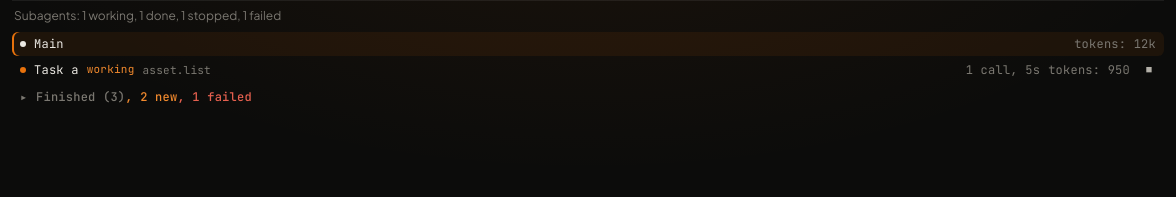
Test: the thread list › shows the tokens each agent spent this session, the main agent's too
This screenshot has width=1176, height=197.
Expected: the text "Main" shows "tokens: 12k", [12,32,1164,56]
Expected: the text "Task a" shows "tokens: 950", [12,58,1164,82]
Click the button "▸ Finished (3), 2 new, 1 failed": x=73, y=97 [12,86,1164,108]
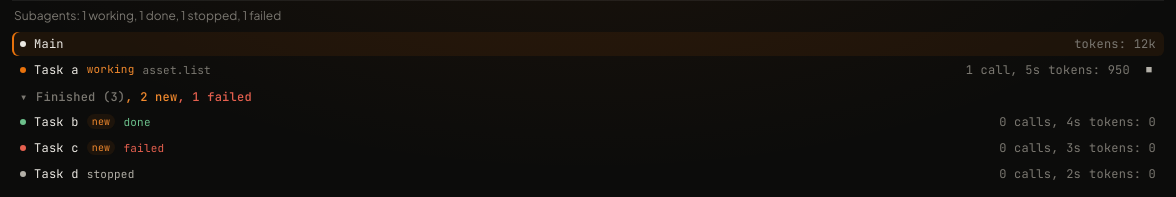
Expected: the text "Task b" shows "tokens: 0", [12,110,1164,134]
